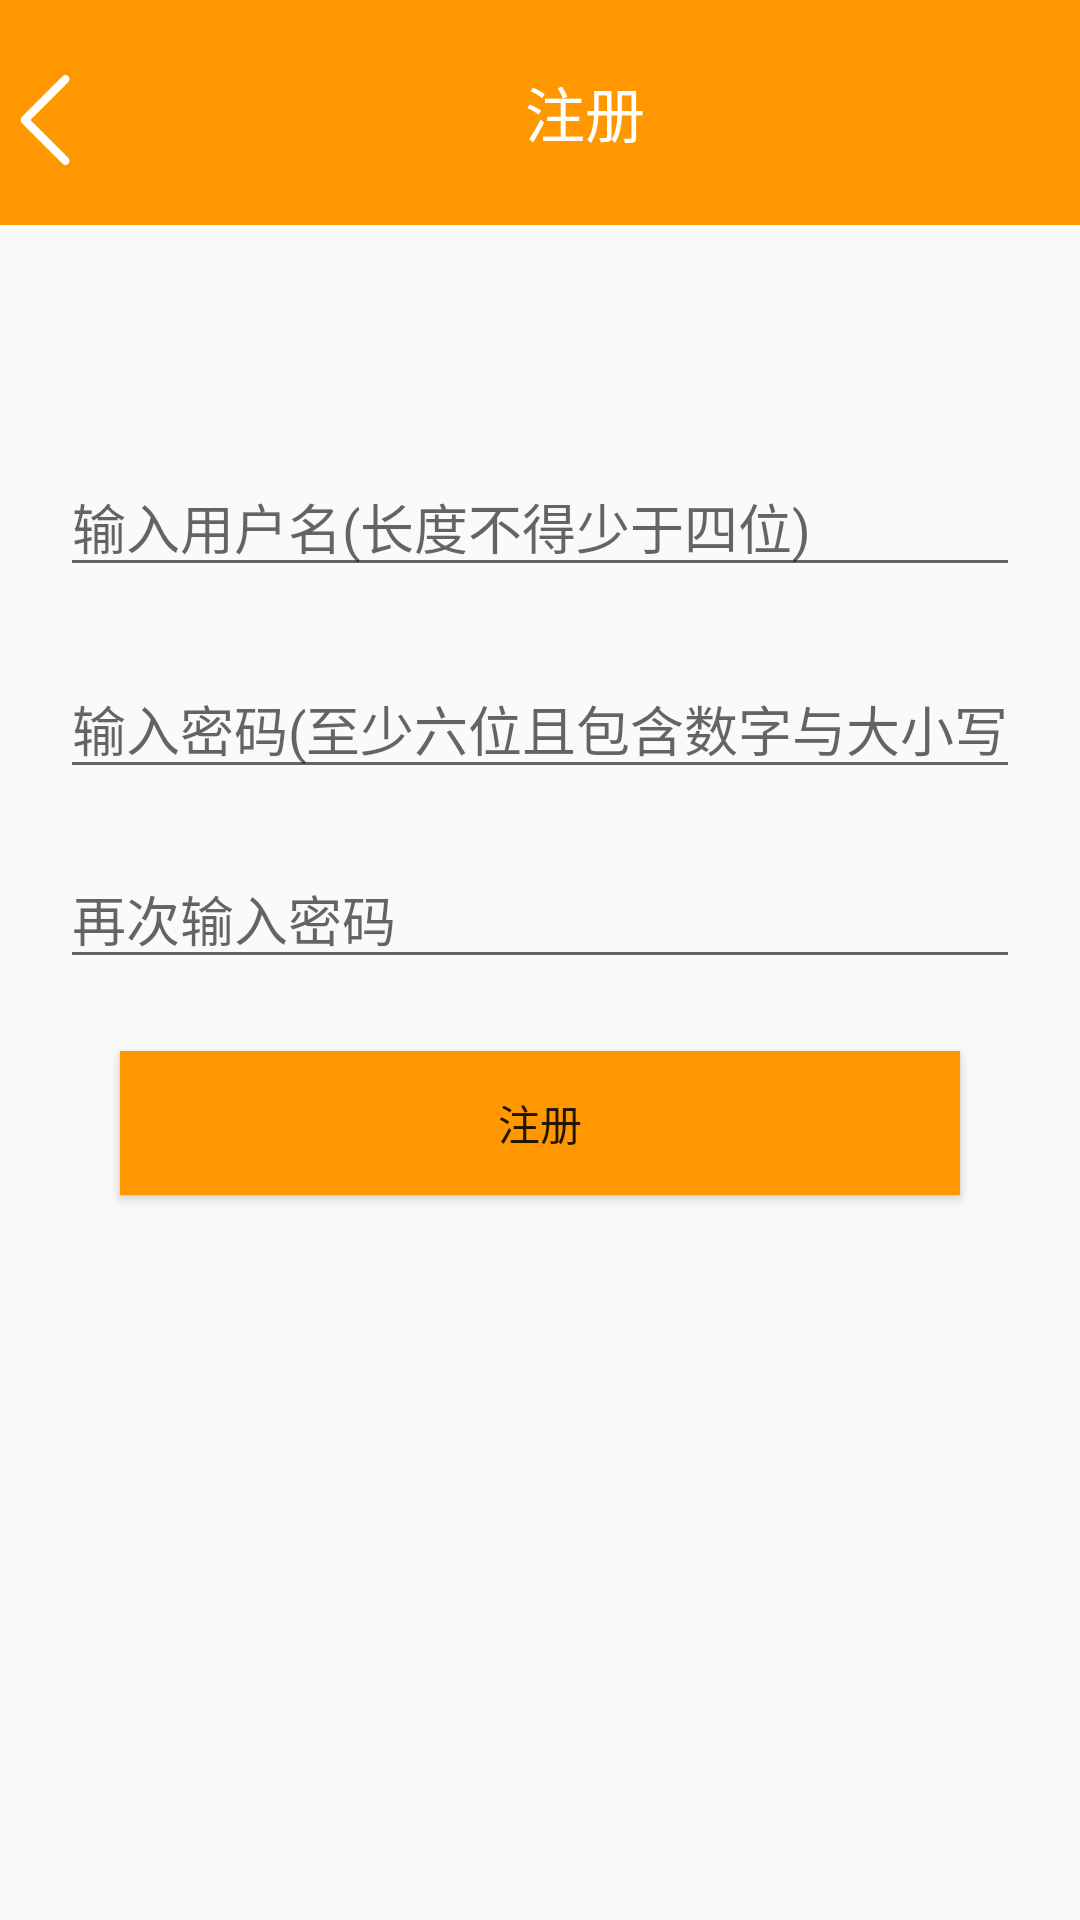

Named icons in this screenshot (1080px x 1920px) and their centers, [x,y]:
arrow back: [45,120]
